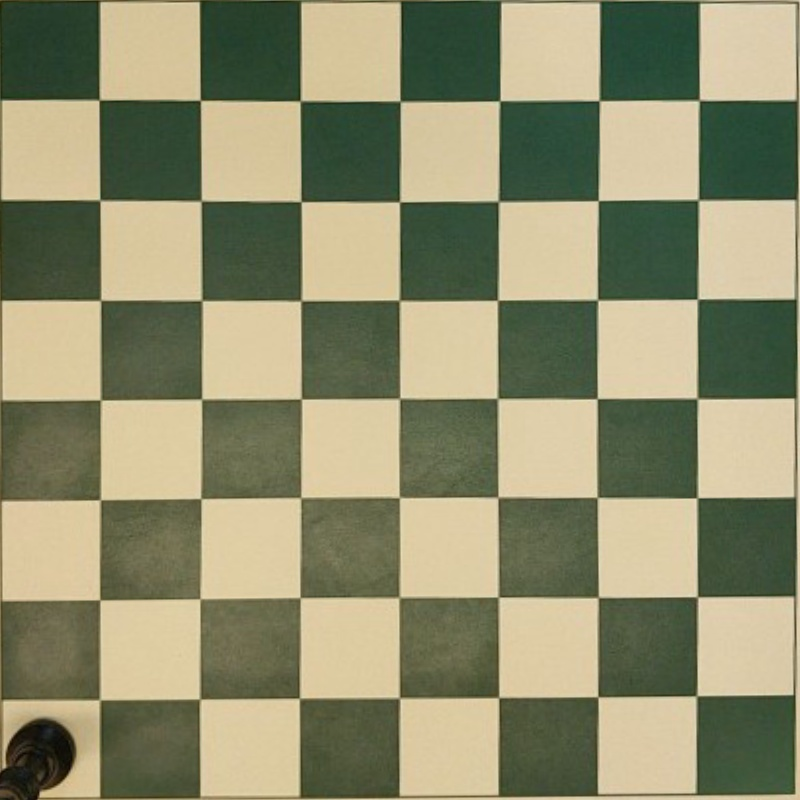black-king: (0, 718, 75, 800)
